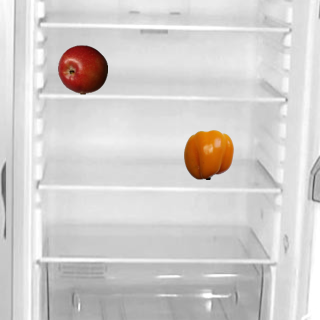Apple Braeburn: (57, 44, 107, 94)
Pepper Yellow: (183, 129, 233, 179)
